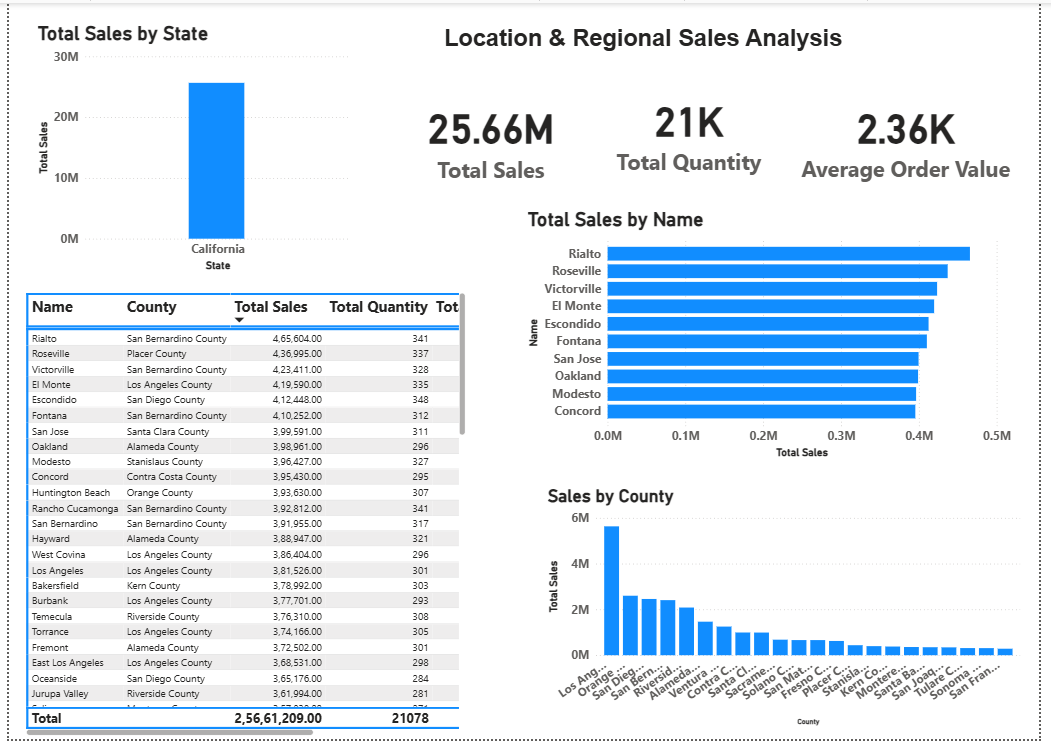

What the dashboard file says about the page in this screenshot:
{"tool":"powerbi","page":{"name":"Page 5","canvas":[1400,1000],"ordinal":4},"visuals":[{"type":"card","fields":{"Values":["Fact_Sales.Total Sales"]},"box":[514.6,101.9,280.2,164.7],"z":0},{"type":"card","fields":{"Values":["Fact_Sales.Total Quantity"]},"box":[794.8,101.9,258.2,144.4],"z":1000},{"type":"card","fields":{"Values":["Fact_Sales.Average Order Value"]},"box":[1058.1,101.9,321,163],"z":2000},{"type":"clusteredBarChart","fields":{"Category":["Dim_Location.Name"],"Y":["Fact_Sales.Total Sales"]},"box":[699.7,278.5,667.5,344.8],"z":3000},{"type":"clusteredColumnChart","title":"Sales by County","fields":{"Category":["Dim_Location.County"],"Y":["Fact_Sales.Total Sales"]},"box":[726.9,655.6,652.2,331.2],"z":4000},{"type":"clusteredColumnChart","fields":{"Category":["Dim_Location.State"],"Y":["Fact_Sales.Total Sales"]},"box":[34,25.5,434.8,344.8],"z":5000},{"type":"tableEx","fields":{"Values":["Dim_Location.Name","Dim_Location.County","Fact_Sales.Total Sales","Fact_Sales.Total Quantity","Fact_Sales.Total Orders","Fact_Sales.Average Order Value"]},"box":[17,388.9,608,611.4],"z":6000},{"type":"textbox","box":[585.9,25.5,628.4,76.4],"z":6001}]}

Visuals, with their boxes in screenshot pixels (x1, y1, x2, y2), scaled from the page's 1400x1000 canvas onto the 1051x742 screenshot:
card - Fact_Sales.Total Sales: l=386, t=76, r=597, b=198
card - Fact_Sales.Total Quantity: l=597, t=76, r=791, b=183
card - Fact_Sales.Average Order Value: l=794, t=76, r=1035, b=197
clusteredBarChart - Dim_Location.Name x Fact_Sales.Total Sales: l=525, t=207, r=1026, b=462
"Sales by County" clusteredColumnChart: l=546, t=486, r=1035, b=732
clusteredColumnChart - Dim_Location.State x Fact_Sales.Total Sales: l=26, t=19, r=352, b=275
tableEx - Dim_Location.Name x Dim_Location.County: l=13, t=289, r=469, b=741
textbox: l=440, t=19, r=912, b=76
